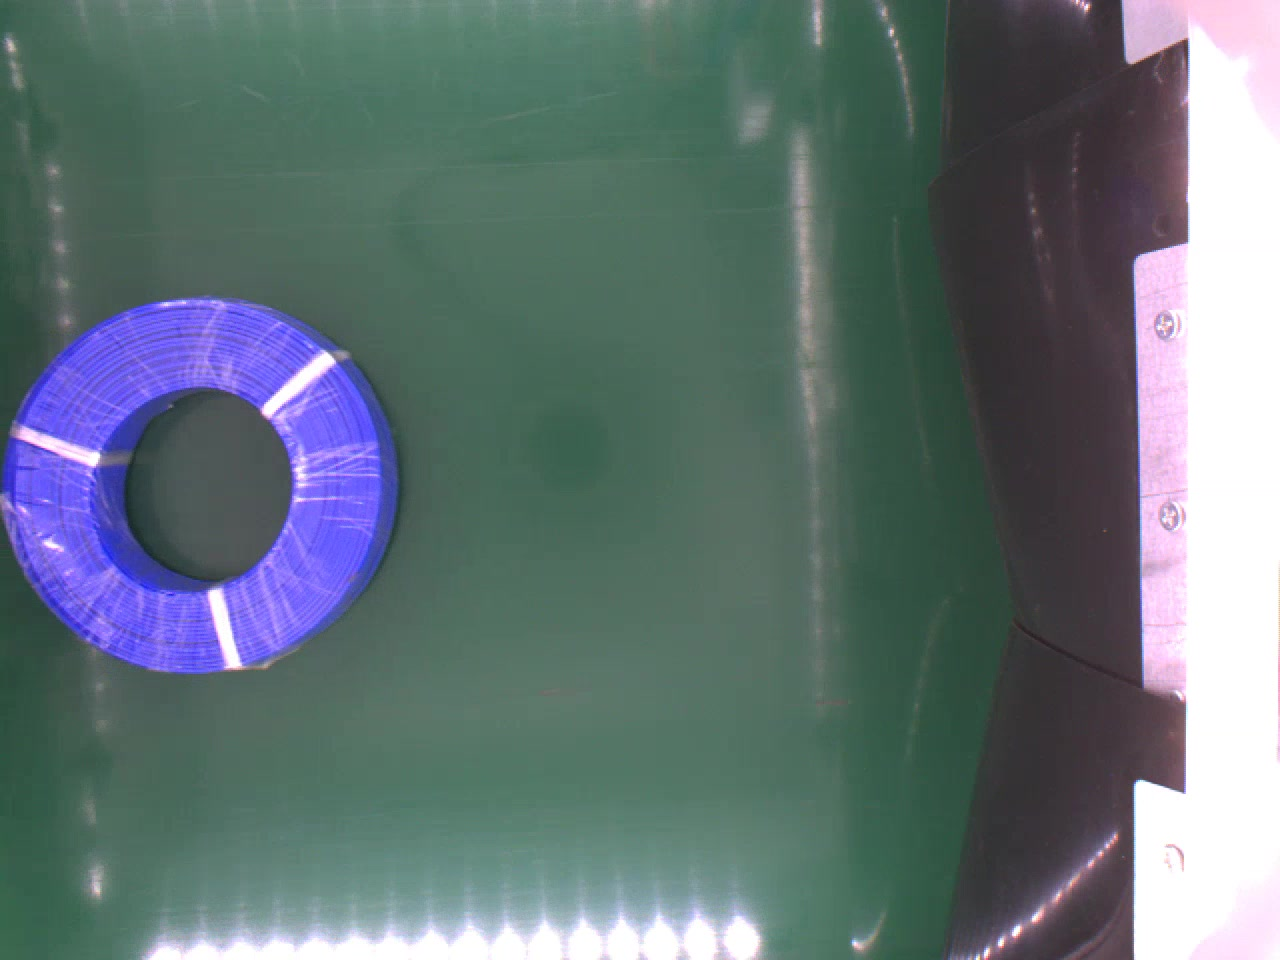blue: (5, 295, 399, 673)
